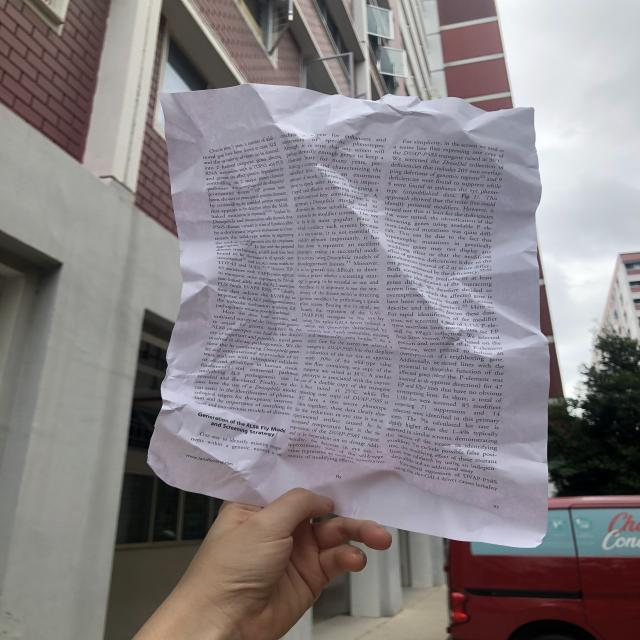document: (148, 85, 548, 546)
